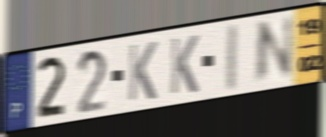2: (75, 47, 111, 116), (36, 55, 67, 120)
I: (223, 21, 240, 95)
K: (169, 33, 201, 97), (127, 40, 159, 104)
N: (252, 14, 295, 89)
